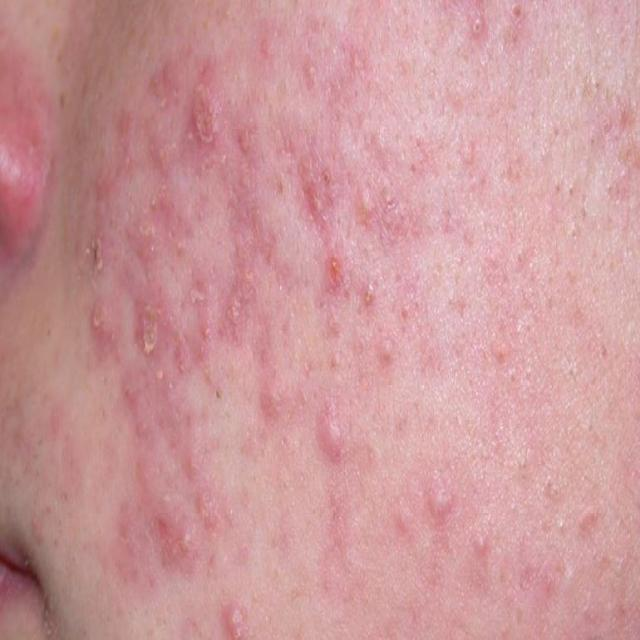fungal: (87, 50, 405, 382), (303, 391, 640, 633), (113, 389, 258, 640)
